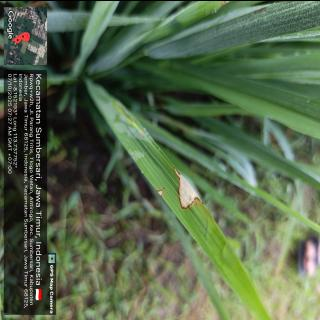Blast: (173, 165, 205, 211), (156, 182, 166, 199)
